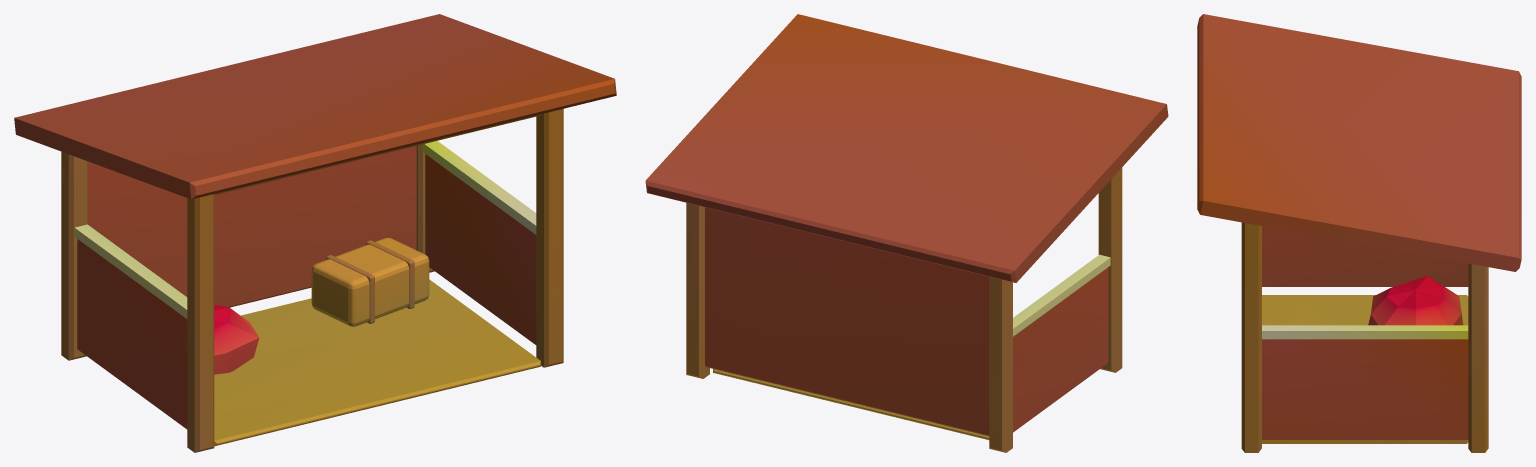
Rendered from Farm_Shed.glb.
The picture shows the model from 3 angles, left to right: view 1: azimuth 30°, elevation 25°; view 2: azimuth 150°, elevation 25°; view 3: azimuth 270°, elevation 25°; orthographic projection. The views are drawn at different scales.
Parts seen in each view (by area): view 1: Farm_Shed; view 2: Farm_Shed; view 3: Farm_Shed.
Part boxes in pixels (x1,y1,x2,y2): Farm_Shed: (14, 14, 616, 452); Farm_Shed: (645, 14, 1168, 452); Farm_Shed: (1197, 14, 1521, 452).
Size of the model in its own units: 3.9 by 2.58 by 2.86.
